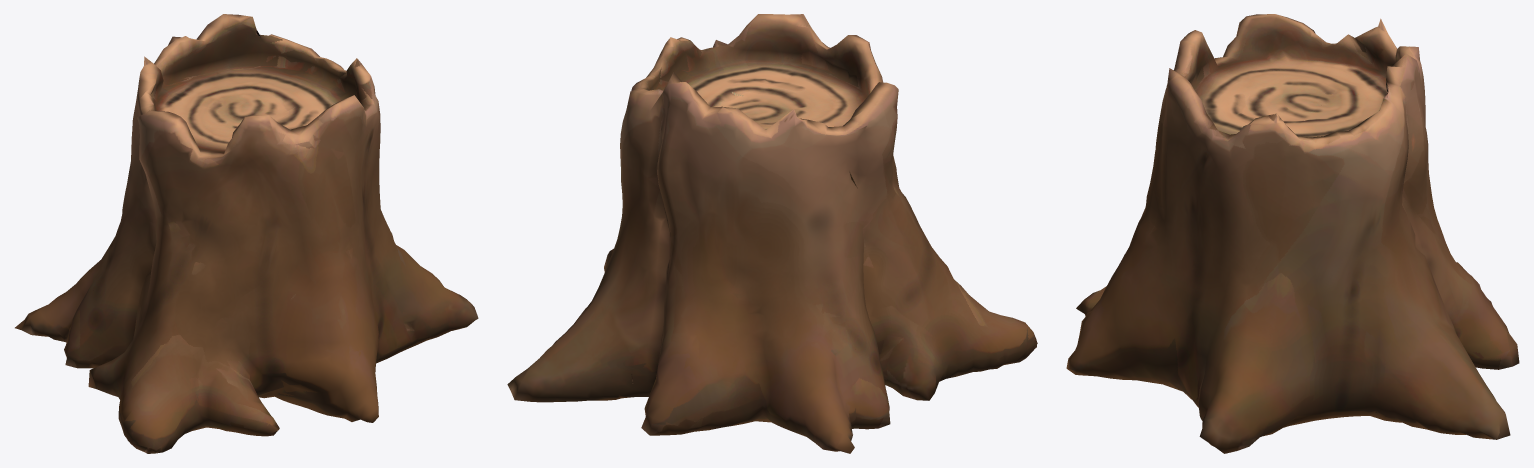
Rendered from STUMP.glb.
3 renders of one model, left to right at view 1: azimuth 30°, elevation 25°; view 2: azimuth 150°, elevation 25°; view 3: azimuth 270°, elevation 25°, orthographic. The views are drawn at different scales.
Visible parts, largest first — view 1: tripo_node_6349b95c-4e97-4451-93c4-402866bc2f00_S-Remesh; view 2: tripo_node_6349b95c-4e97-4451-93c4-402866bc2f00_S-Remesh; view 3: tripo_node_6349b95c-4e97-4451-93c4-402866bc2f00_S-Remesh.
Part boxes in pixels (x1,y1,x2,y2): tripo_node_6349b95c-4e97-4451-93c4-402866bc2f00_S-Remesh: (15,14,478,453); tripo_node_6349b95c-4e97-4451-93c4-402866bc2f00_S-Remesh: (507,14,1037,453); tripo_node_6349b95c-4e97-4451-93c4-402866bc2f00_S-Remesh: (1066,14,1519,453).
Bounding box in the file's own units: 0.9968 × 0.755 × 0.9525.
1 material, 1 textured.
